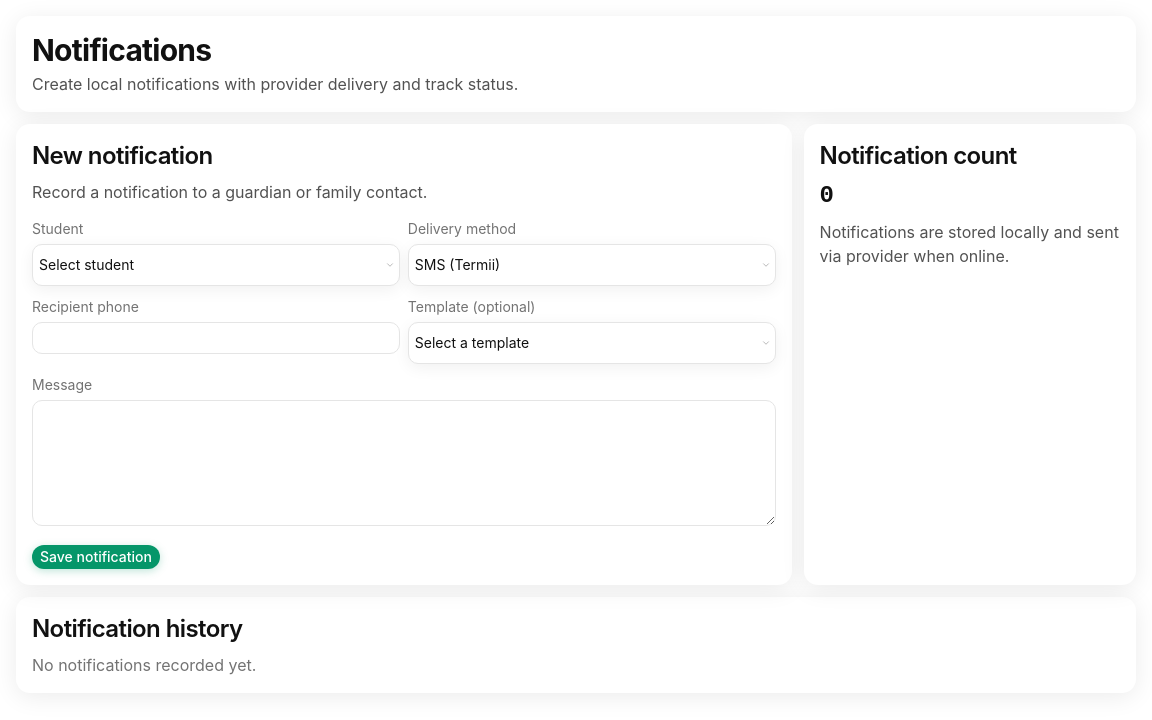
Test: NotificationsView tenant school context › blocks writes when school context is missing
Select "Ada Obi" in the dropdown labelled "Student" at (216, 265), box [32,244,400,286]
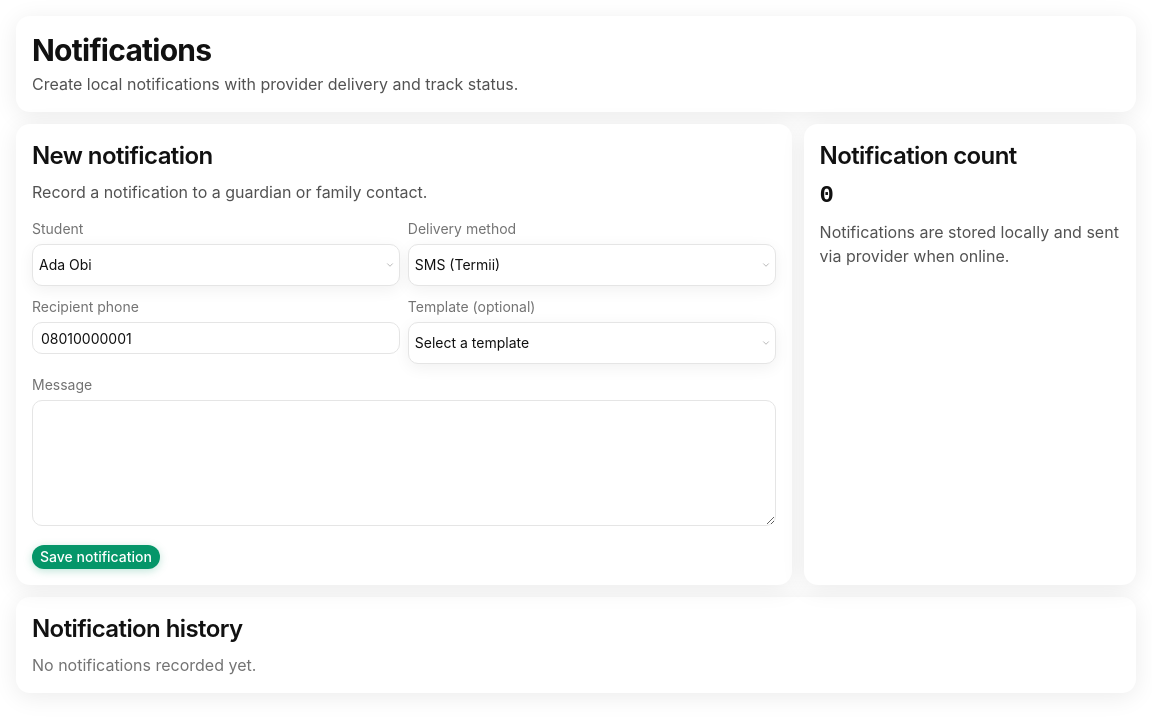
Type "Fees due" into the text box labelled "Message" at (404, 463), box [32,400,776,526]
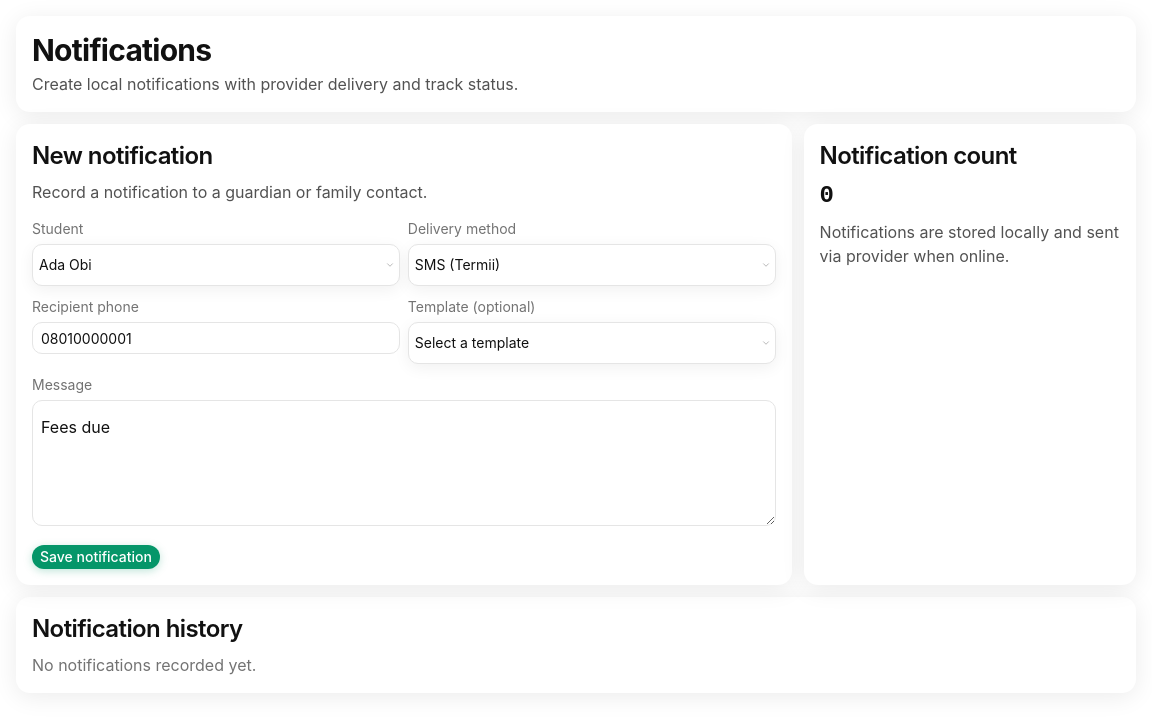
Click the button "Save notification" at (96, 557), box [32,545,160,569]
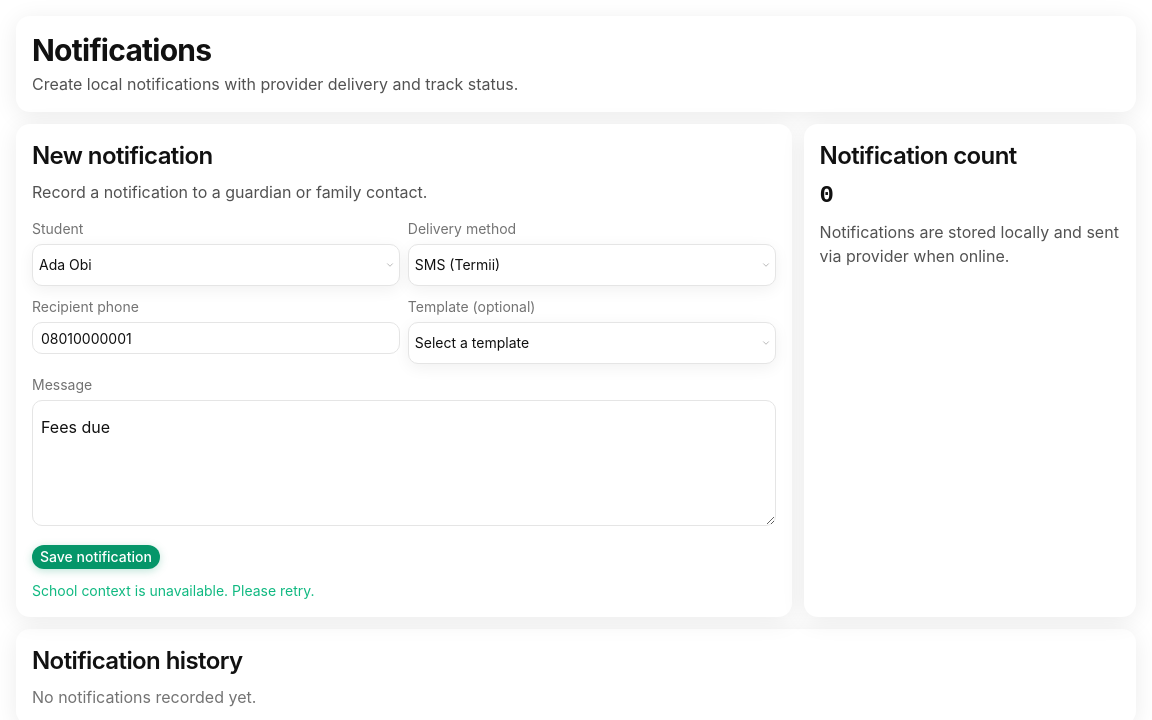
Now the text "School context is unavailable" is shown, box [32,582,315,599]
